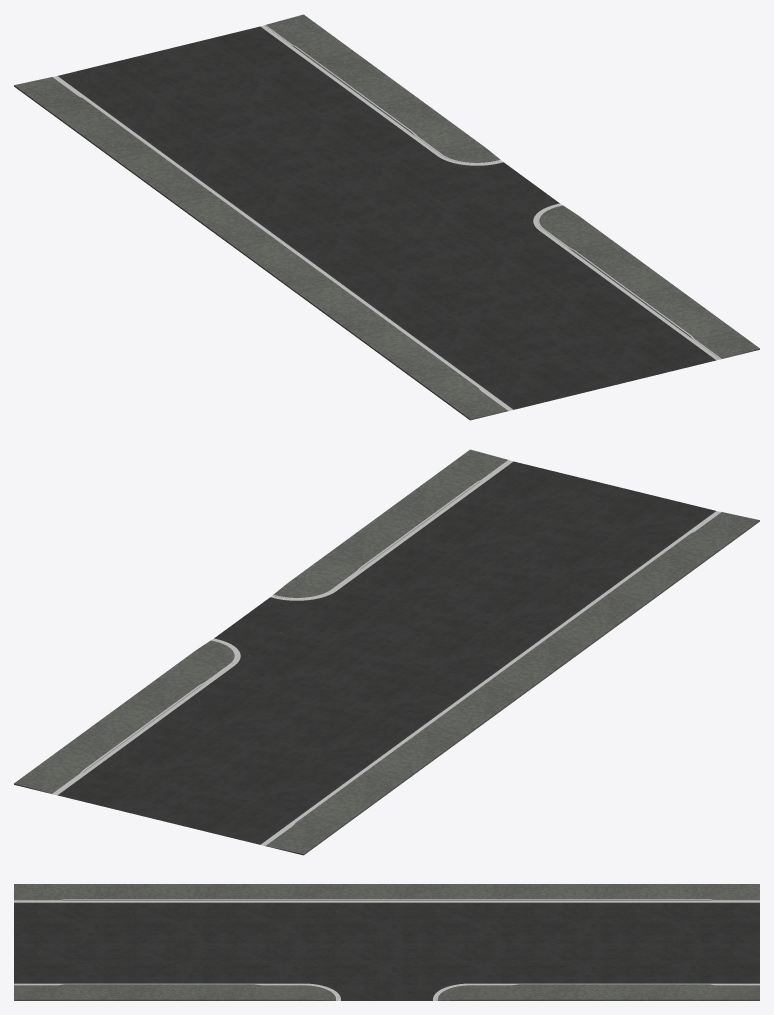
Rendered from jcRoad22mC.fbx.
The picture shows the model from 3 angles, top to bottom: view 1: azimuth 30°, elevation 25°; view 2: azimuth 150°, elevation 25°; view 3: azimuth 270°, elevation 25°; orthographic projection. The views are drawn at different scales.
Parts seen in each view (by area): view 1: jcRoad22mC; view 2: jcRoad22mC; view 3: jcRoad22mC.
Boxes of the visible parts, x1,y1,x2,y2 form: jcRoad22mC: (14,14,759,420); jcRoad22mC: (14,449,759,855); jcRoad22mC: (14,884,759,1000).
Size of the model in its own units: 2200 by 10 by 6000.
